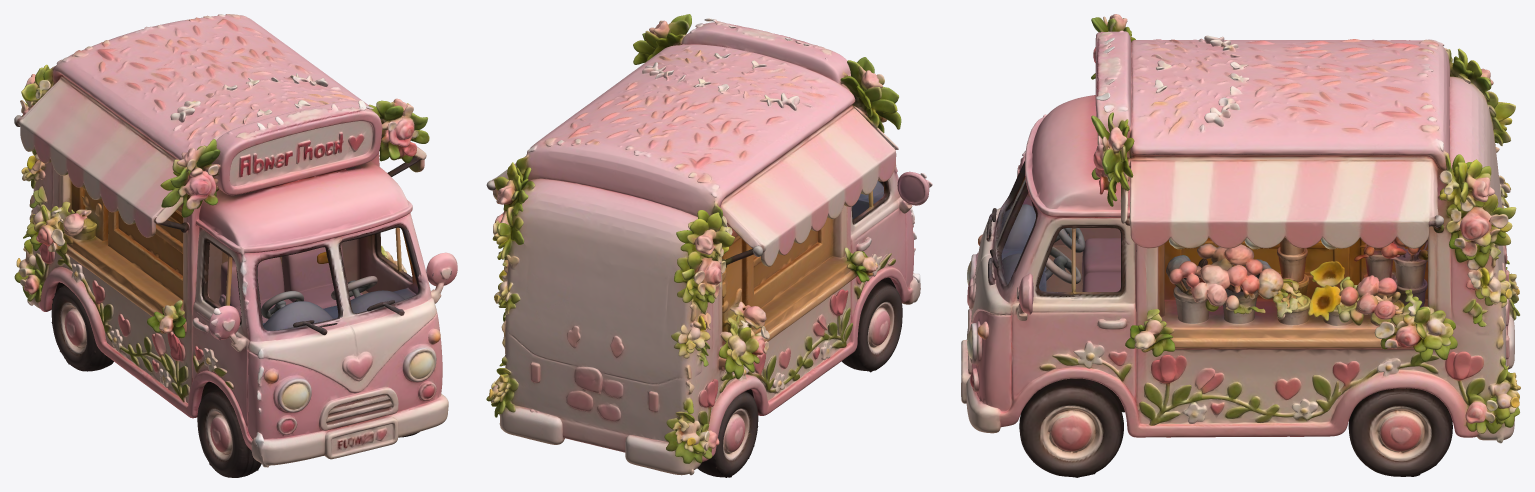
File: flower_truck.glb
3 renders of one model, left to right at view 1: azimuth 30°, elevation 25°; view 2: azimuth 150°, elevation 25°; view 3: azimuth 270°, elevation 25°, orthographic. The views are drawn at different scales.
Parts seen in each view (by area): view 1: tripo_node_57f3a364-b926-4d4c-959f-3f3a8d1eefda; view 2: tripo_node_57f3a364-b926-4d4c-959f-3f3a8d1eefda; view 3: tripo_node_57f3a364-b926-4d4c-959f-3f3a8d1eefda.
Part boxes in pixels (x1,y1,x2,y2): tripo_node_57f3a364-b926-4d4c-959f-3f3a8d1eefda: (14,14,457,477); tripo_node_57f3a364-b926-4d4c-959f-3f3a8d1eefda: (486,14,932,477); tripo_node_57f3a364-b926-4d4c-959f-3f3a8d1eefda: (961,14,1520,477).
Size of the model in its own units: 0.6419 by 0.7278 by 1.
1 material, 1 textured.
